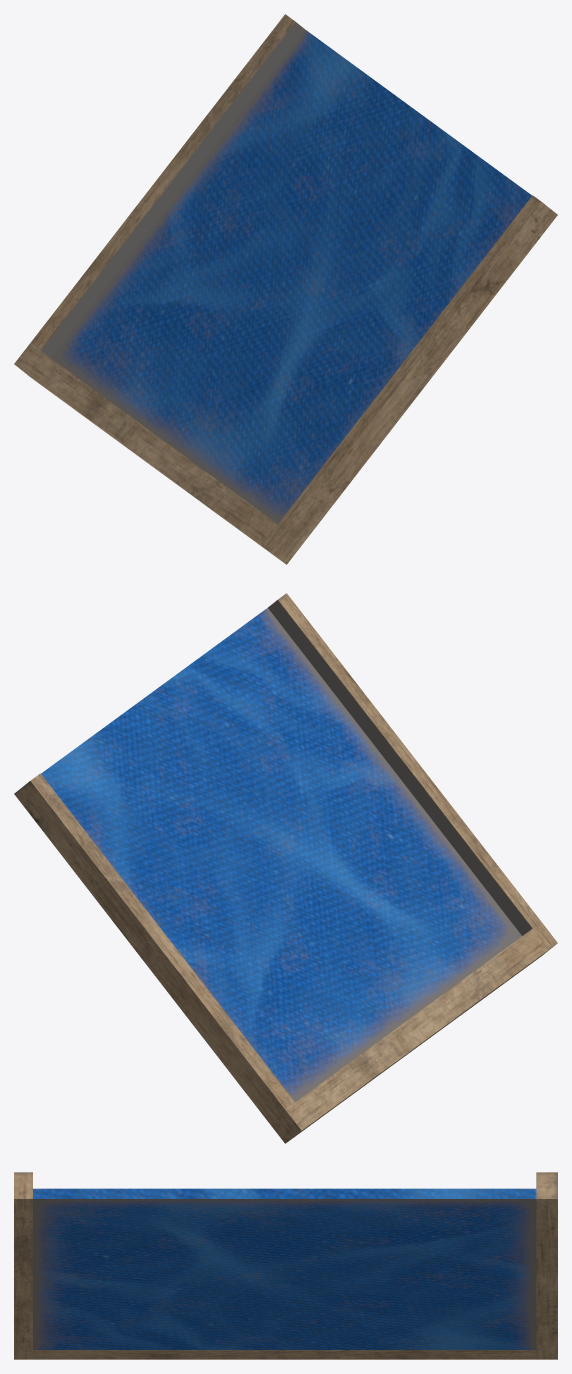
File: Con_Antifall.fbx
The picture shows the model from 3 angles, top to bottom: view 1: azimuth 30°, elevation 25°; view 2: azimuth 150°, elevation 25°; view 3: azimuth 270°, elevation 25°; orthographic projection. The views are drawn at different scales.
Visible parts, largest first — view 1: AntiFall; view 2: AntiFall; view 3: AntiFall.
Boxes of the visible parts, box(x1,y1,x2,y2) form: AntiFall: box(14, 14, 557, 564); AntiFall: box(14, 593, 557, 1143); AntiFall: box(14, 1172, 557, 1359).
Size of the model in its own units: 2.53 by 2.53 by 3.91.
1 material, 1 textured.
